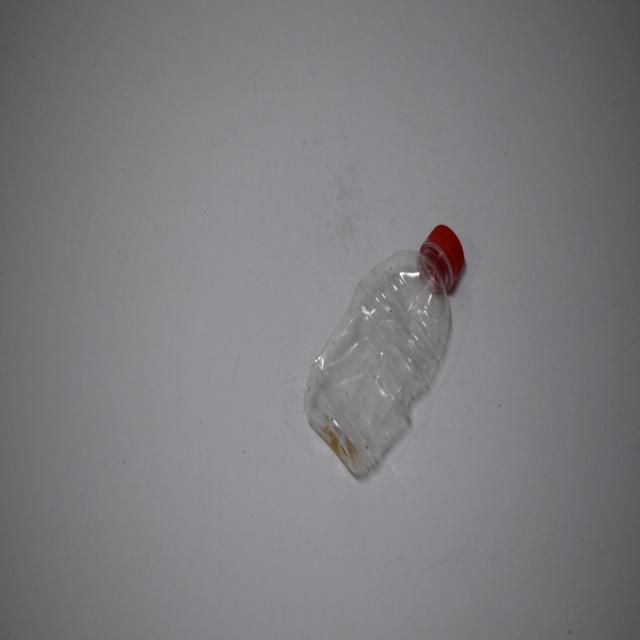bottle: (302, 207, 473, 486)
